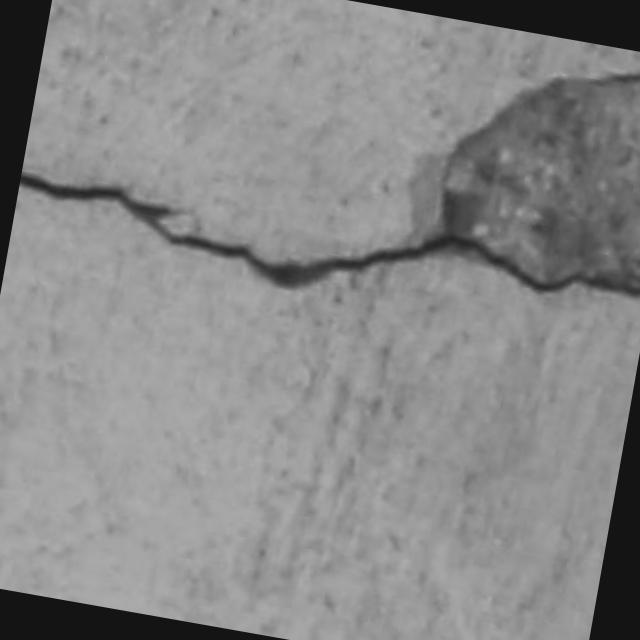crack: (19, 168, 639, 297), (19, 172, 639, 297)
